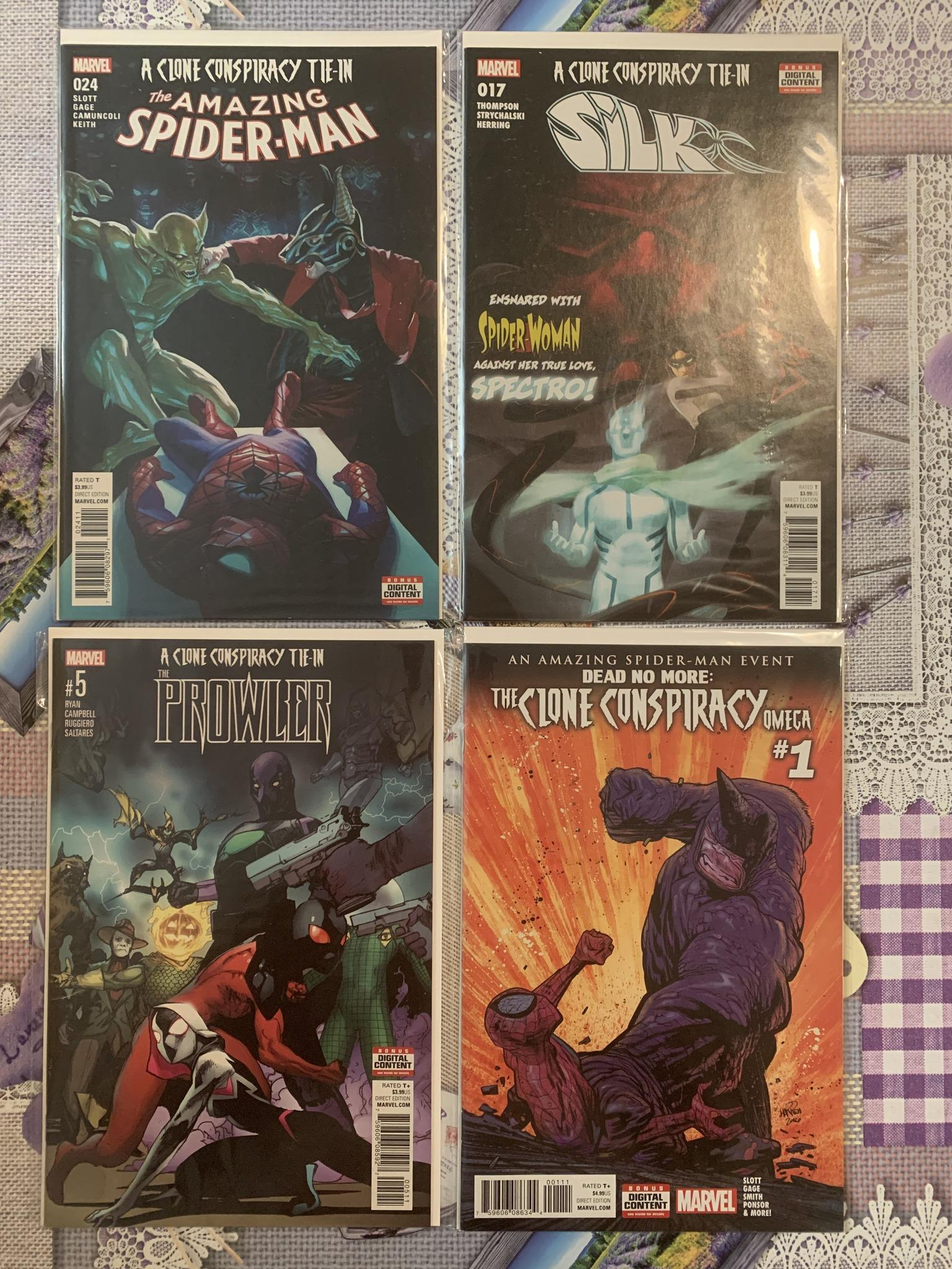comic: (42, 625, 444, 1229), (461, 627, 847, 1234), (58, 29, 443, 621), (461, 30, 841, 622)
